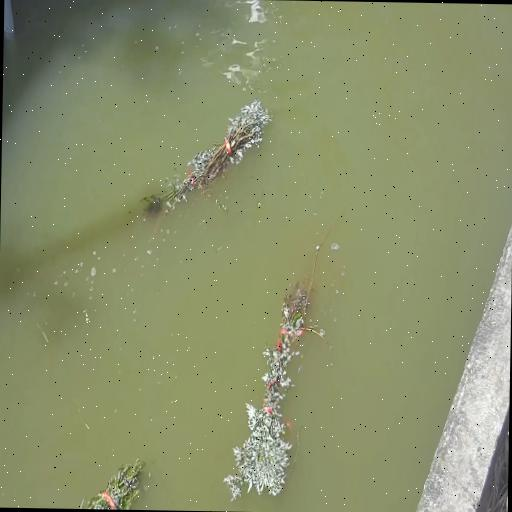twig: (224, 212, 344, 500), (142, 100, 270, 214), (88, 459, 144, 509)
